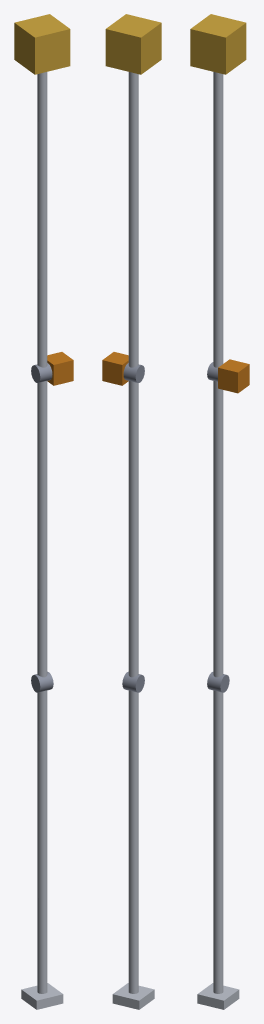
The model's file is mag.glb.
The picture shows the model from 3 angles, left to right: view 1: azimuth 30°, elevation 25°; view 2: azimuth 150°, elevation 25°; view 3: azimuth 330°, elevation 25°; orthographic projection.
Parts seen in each view (by area): view 1: mag, mag_main_sensor, mag_base, mag_gradiometer; view 2: mag, mag_main_sensor, mag_base, mag_gradiometer; view 3: mag, mag_main_sensor, mag_gradiometer, mag_base.
Boxes of the visible parts, bbox=[...] form: mag: bbox=[31, 72, 53, 993]; mag_main_sensor: bbox=[14, 14, 70, 74]; mag_base: bbox=[21, 983, 63, 1009]; mag_gradiometer: bbox=[47, 352, 73, 385]; mag: bbox=[122, 72, 144, 993]; mag_main_sensor: bbox=[105, 14, 161, 74]; mag_base: bbox=[112, 983, 154, 1009]; mag_gradiometer: bbox=[102, 352, 128, 385]; mag: bbox=[207, 72, 229, 993]; mag_main_sensor: bbox=[190, 14, 246, 74]; mag_gradiometer: bbox=[218, 359, 249, 393]; mag_base: bbox=[197, 983, 239, 1009].
Size of the model in its own units: 0.0975 by 2.1 by 0.08.
